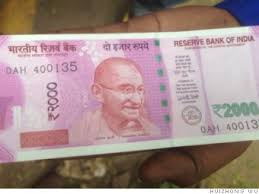twoThousand: (13, 57, 259, 129)
